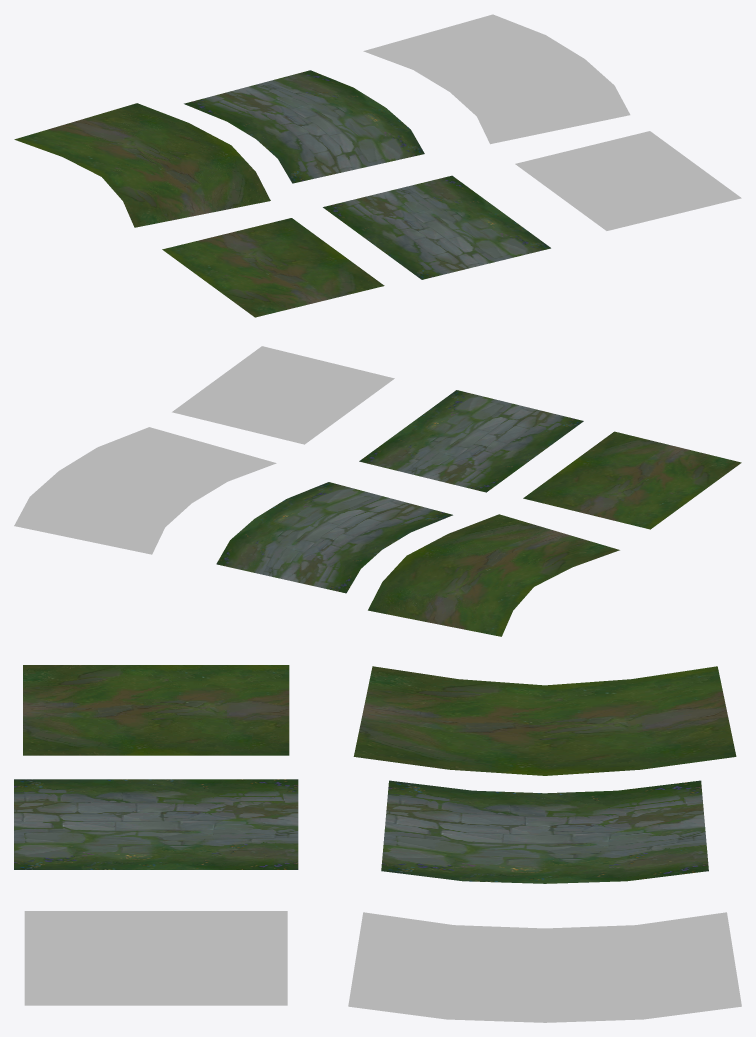
The model's file is h5_dibiaolu_005.FBX.
3 views of the same model, one above another, from view 1: azimuth 30°, elevation 25°; view 2: azimuth 150°, elevation 25°; view 3: azimuth 270°, elevation 25° (orthographic). The views are drawn at different scales.
Parts seen in each view (by area): view 1: h5_dibiaolu_024, h5_dibiaolu_023, h5_dibiaolu_022, h5_dibiaolu_006, h5_dibiaolu_005, h5_dibiaolu_009; view 2: h5_dibiaolu_024, h5_dibiaolu_023, h5_dibiaolu_022, h5_dibiaolu_006, h5_dibiaolu_005, h5_dibiaolu_009; view 3: h5_dibiaolu_024, h5_dibiaolu_023, h5_dibiaolu_022, h5_dibiaolu_006, h5_dibiaolu_005, h5_dibiaolu_009.
Boxes of the visible parts, x1,y1,x2,y2 form: h5_dibiaolu_024: (363, 14, 630, 144); h5_dibiaolu_023: (14, 103, 270, 227); h5_dibiaolu_022: (184, 70, 424, 183); h5_dibiaolu_006: (323, 175, 550, 279); h5_dibiaolu_005: (515, 131, 741, 230); h5_dibiaolu_009: (162, 218, 384, 317); h5_dibiaolu_024: (14, 427, 276, 554); h5_dibiaolu_023: (368, 514, 619, 636); h5_dibiaolu_022: (216, 482, 452, 593); h5_dibiaolu_006: (359, 390, 583, 492); h5_dibiaolu_005: (172, 346, 394, 444); h5_dibiaolu_009: (523, 431, 741, 529); h5_dibiaolu_024: (348, 912, 741, 1022); h5_dibiaolu_023: (353, 666, 736, 775); h5_dibiaolu_022: (381, 780, 708, 883); h5_dibiaolu_006: (14, 779, 298, 869); h5_dibiaolu_005: (24, 911, 287, 1005); h5_dibiaolu_009: (23, 665, 289, 755).
Size of the model in its own units: 41.35 by 2.18e-15 by 35.56.
